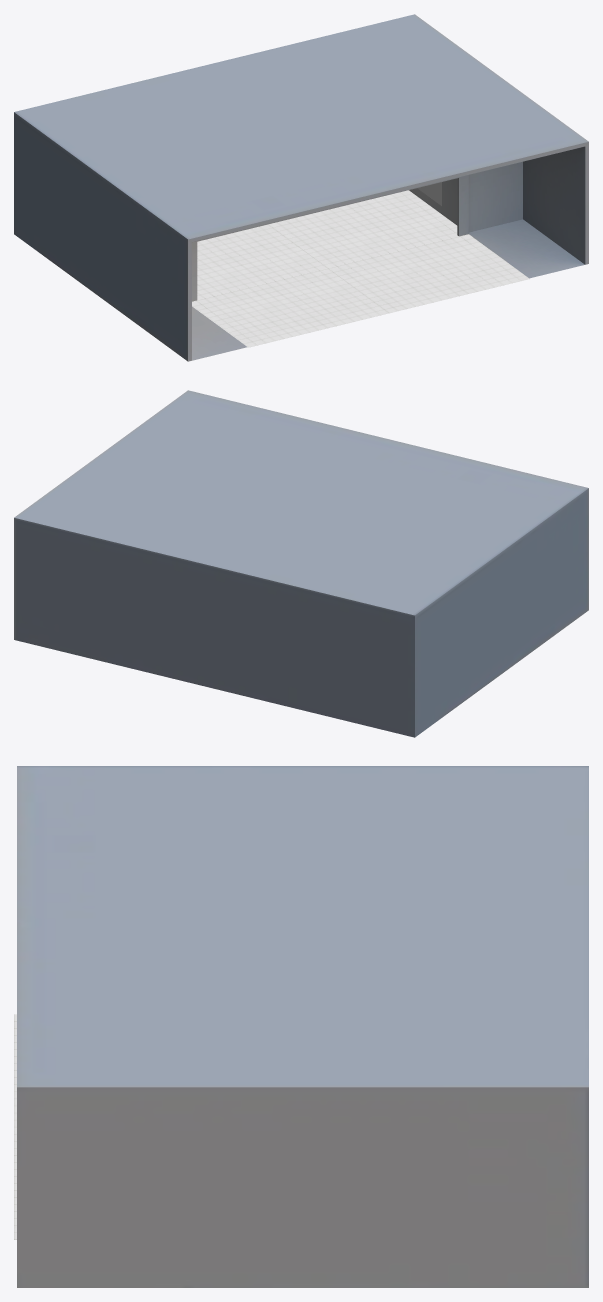
File: garage_2k_comp.glb
The picture shows the model from 3 angles, top to bottom: view 1: azimuth 30°, elevation 25°; view 2: azimuth 150°, elevation 25°; view 3: azimuth 270°, elevation 25°; orthographic projection. The views are drawn at different scales.
Visible parts, largest first — view 1: walls, floor; view 2: walls; view 3: walls, floor.
Part boxes in pixels (bbox=[...]): walls: bbox=[14, 14, 588, 361]; floor: bbox=[192, 190, 529, 347]; walls: bbox=[14, 390, 588, 737]; walls: bbox=[17, 766, 588, 1287]; floor: bbox=[14, 1014, 16, 1239].
Size of the model in its own units: 26.77 by 7.87 by 20.25.
Materials: 6 (2 with a texture image).
